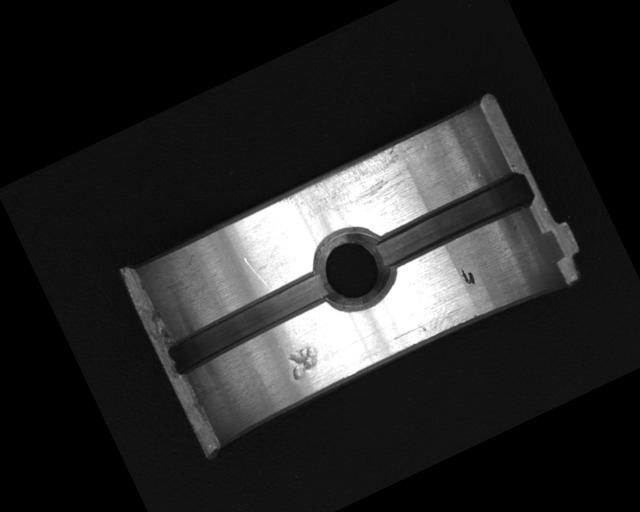blot: (458, 264, 478, 290)
bruise: (282, 341, 327, 384)
gap: (161, 267, 337, 379), (368, 168, 538, 275)
hole: (300, 216, 405, 322)
nick: (242, 252, 272, 295)
scratch: (277, 130, 441, 239)
